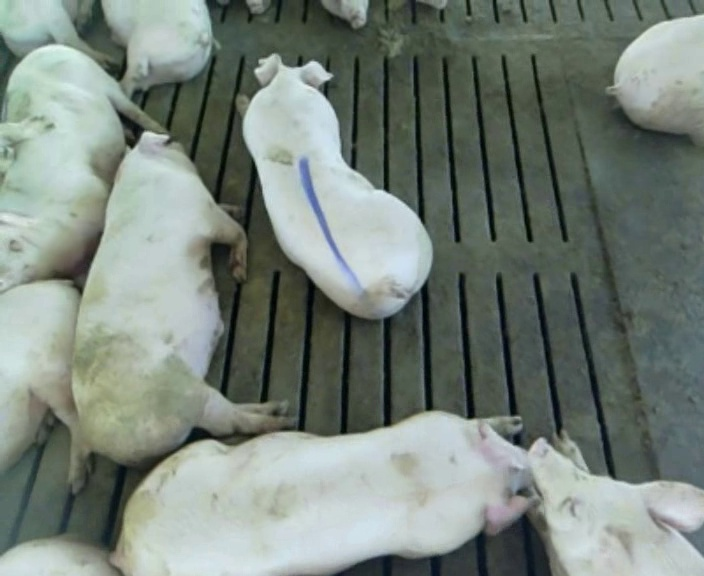pig: (72, 132, 291, 464), (111, 411, 531, 574), (236, 54, 432, 318), (0, 45, 164, 291), (528, 433, 703, 574), (0, 280, 85, 491), (607, 15, 703, 145), (102, 2, 213, 95)
